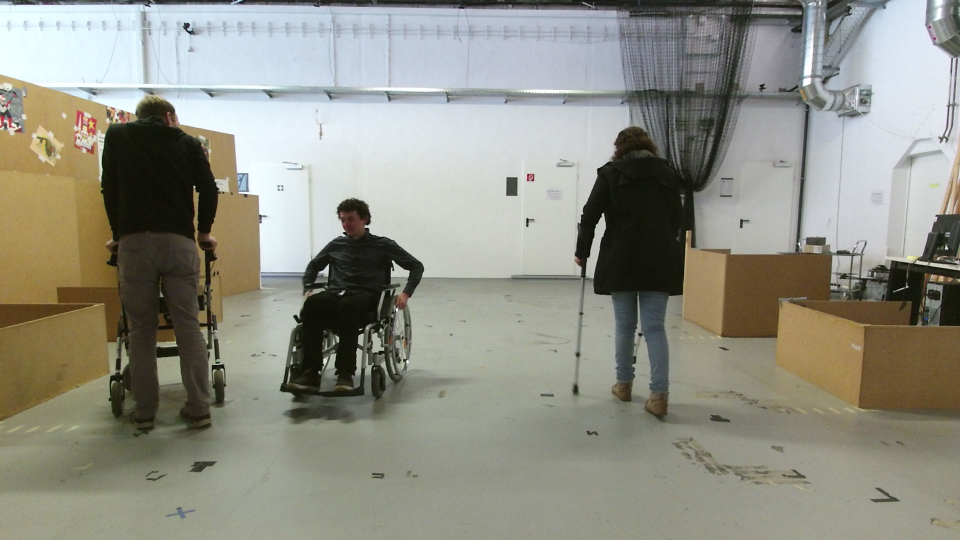crutches: (564, 114, 695, 421)
wheelchair: (277, 196, 430, 404)
